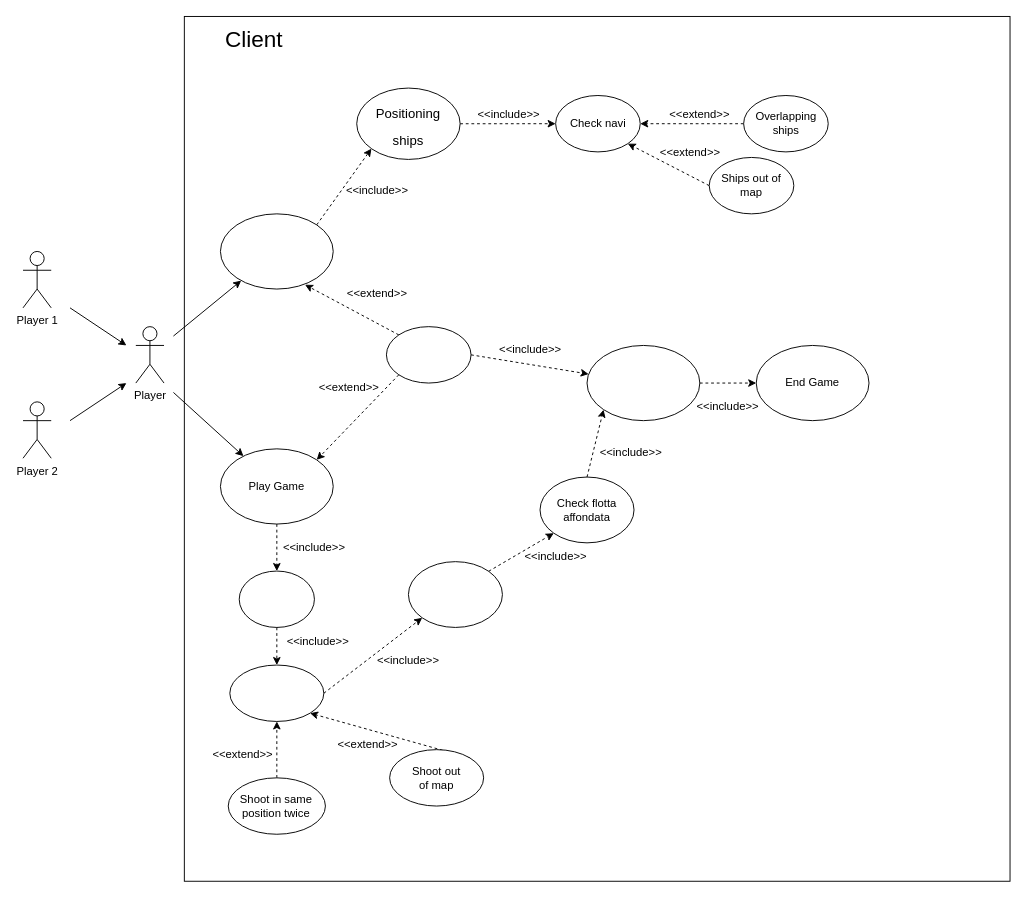
Image size: 1026x898. Some labels were removed from this diagram. The centre of each missing label's shape, as x and y in pixels:
"Check nave affondata" goes at point (454, 594).
"Check shoot validity" goes at point (276, 692).
"Check winner" goes at point (643, 383).
"QUIT" goes at point (428, 354).
"Set Game" goes at point (276, 251).
"Shoot" goes at point (276, 598).
